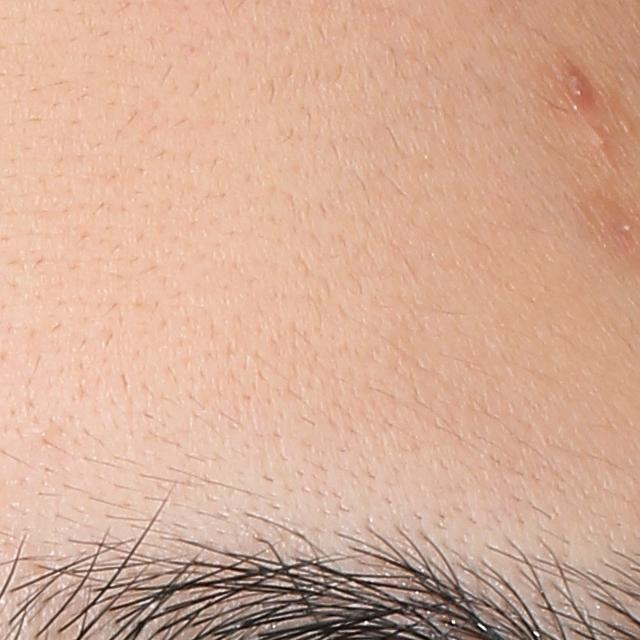papule: (555, 62, 595, 119)
